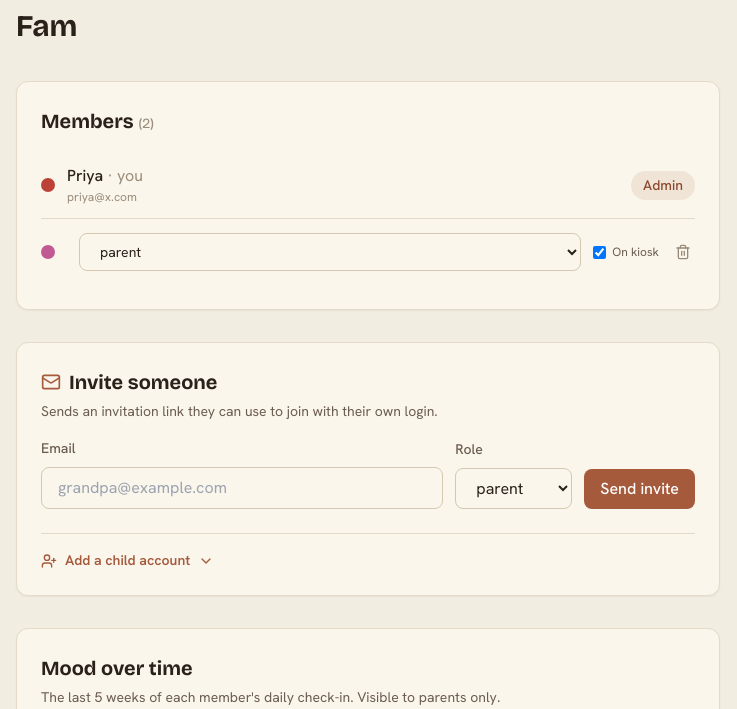
Scenario: FamilyPage — existing family › sends an invitation and shows the token
In the field labelled "Email": (242, 488) [41,467,443,509], type "maa@x.com"
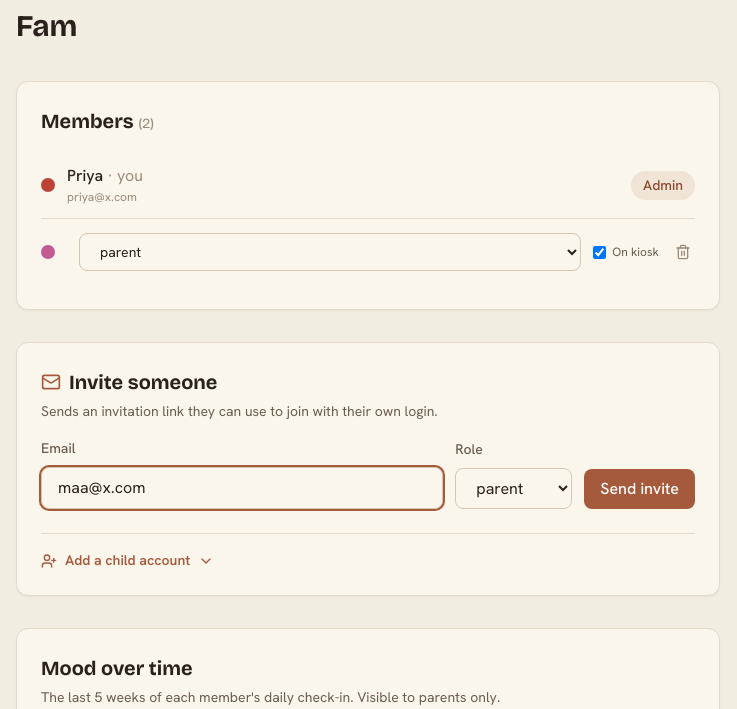
Click the button "Send invite": click(640, 489) [584,469,695,509]
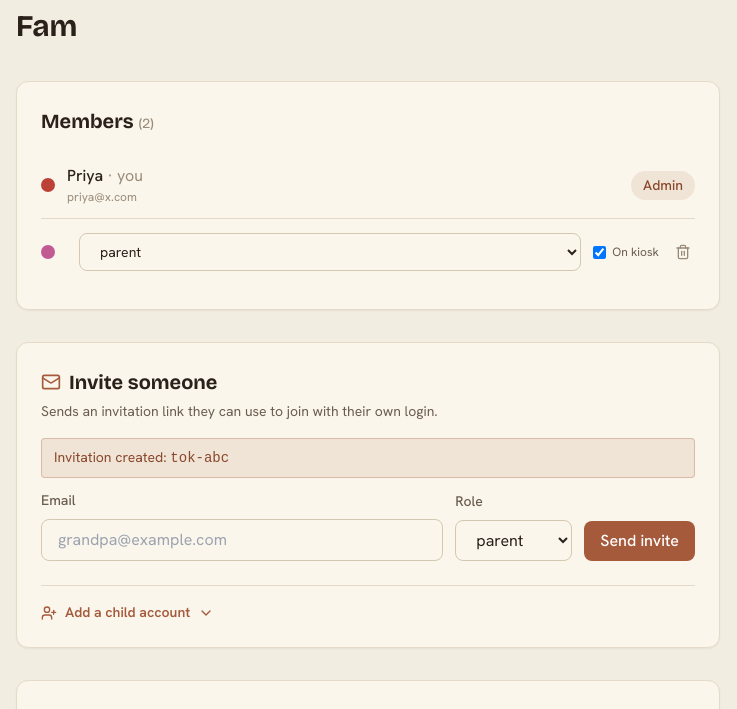
Now the text "tok-abc" is shown, box [170,450,229,466]
